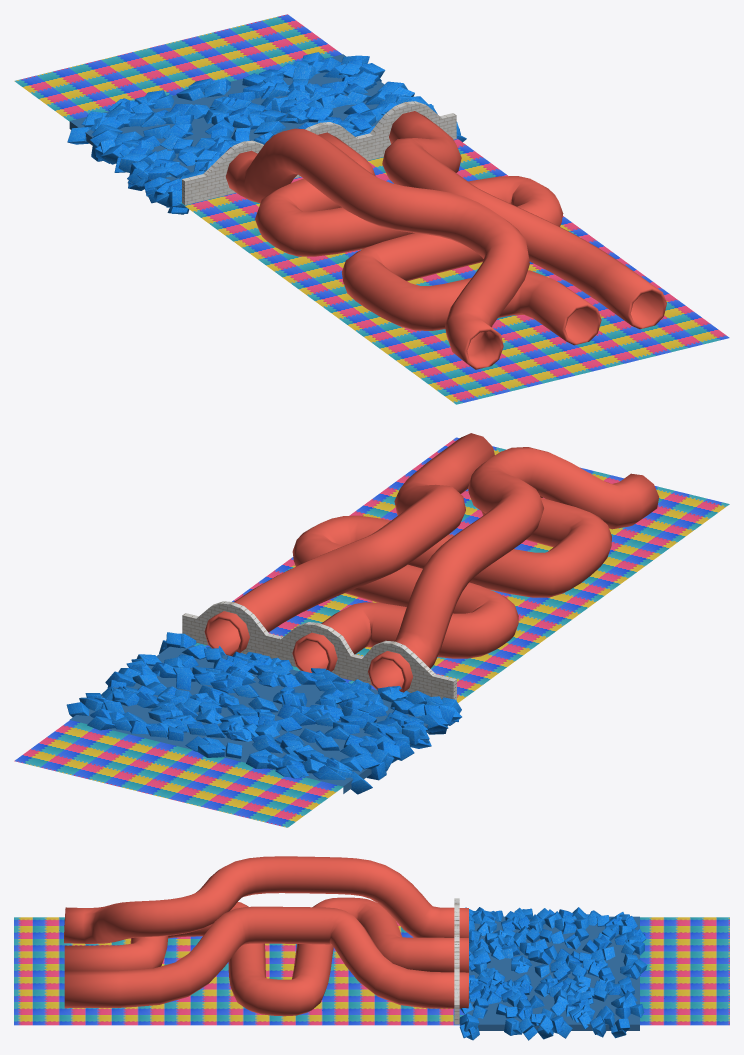
The model's file is san3.fbx.
3 views of the same model, one above another, from view 1: azimuth 30°, elevation 25°; view 2: azimuth 150°, elevation 25°; view 3: azimuth 270°, elevation 25° (orthographic). The views are drawn at different scales.
Parts seen in each view (by area): view 1: phong.002, ong1.001, ong3.001, ong2.001, tuong ong.001, cuc sop1.001; view 2: phong.002, ong1.001, ong3.001, ong2.001, tuong ong.001, cuc sop1.001; view 3: phong.002, ong2.001, ong3.001, ong1.001, cuc sop1.001, tuong ong.001.
Part boxes in pixels (x1,y1,x2,y2): phong.002: (14, 14, 729, 404); ong1.001: (255, 132, 601, 345); ong3.001: (225, 128, 529, 369); ong2.001: (382, 111, 666, 329); tuong ong.001: (182, 101, 456, 205); cuc sop1.001: (69, 54, 384, 181); phong.002: (14, 437, 729, 827); ong1.001: (292, 496, 611, 672); ong3.001: (368, 447, 658, 692); ong2.001: (204, 433, 494, 655); tuong ong.001: (182, 601, 456, 700); cuc sop1.001: (70, 645, 428, 793); phong.002: (14, 917, 729, 1025); ong2.001: (64, 906, 468, 1008); ong3.001: (64, 856, 468, 943); ong1.001: (64, 897, 468, 1016); cuc sop1.001: (466, 916, 639, 1030); tuong ong.001: (454, 898, 459, 1024).
Size of the model in its own units: 4610 by 1708 by 11582.
Materials: 5 (3 with a texture image).
